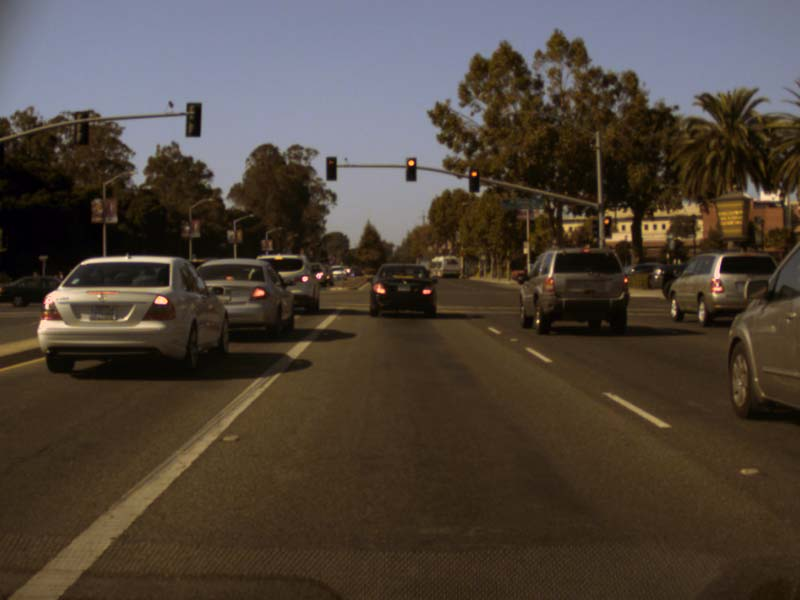Red: (468, 166, 479, 190), (325, 157, 336, 181), (405, 157, 415, 181), (603, 216, 612, 235)
